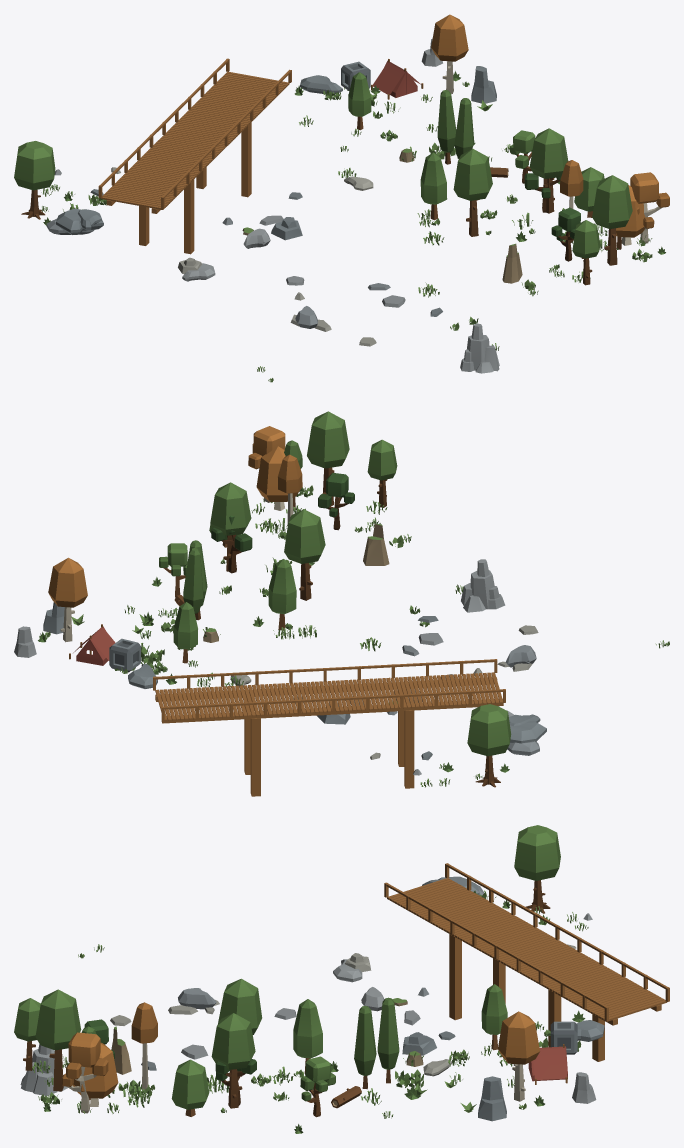
The model's file is cell_x-1_z-1_render.gltf.
The picture shows the model from 3 angles, top to bottom: view 1: azimuth 30°, elevation 25°; view 2: azimuth 150°, elevation 25°; view 3: azimuth 270°, elevation 25°; orthographic projection. The views are drawn at different scales.
Visible parts, largest first — view 1: cell_x-1_z-1; view 2: cell_x-1_z-1; view 3: cell_x-1_z-1.
Part boxes in pixels (bbox=[...]): cell_x-1_z-1: bbox=[14, 14, 669, 382]; cell_x-1_z-1: bbox=[14, 411, 669, 796]; cell_x-1_z-1: bbox=[14, 825, 669, 1133].
Bounding box in the file's own units: 42.63 × 13.64 × 46.51.
